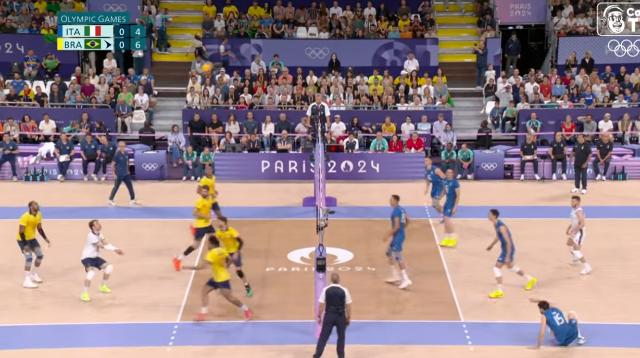Levantador: (444, 166, 461, 250), (216, 216, 244, 264)
Libero: (82, 220, 125, 304), (567, 196, 587, 276)
bola: (203, 63, 210, 73)
